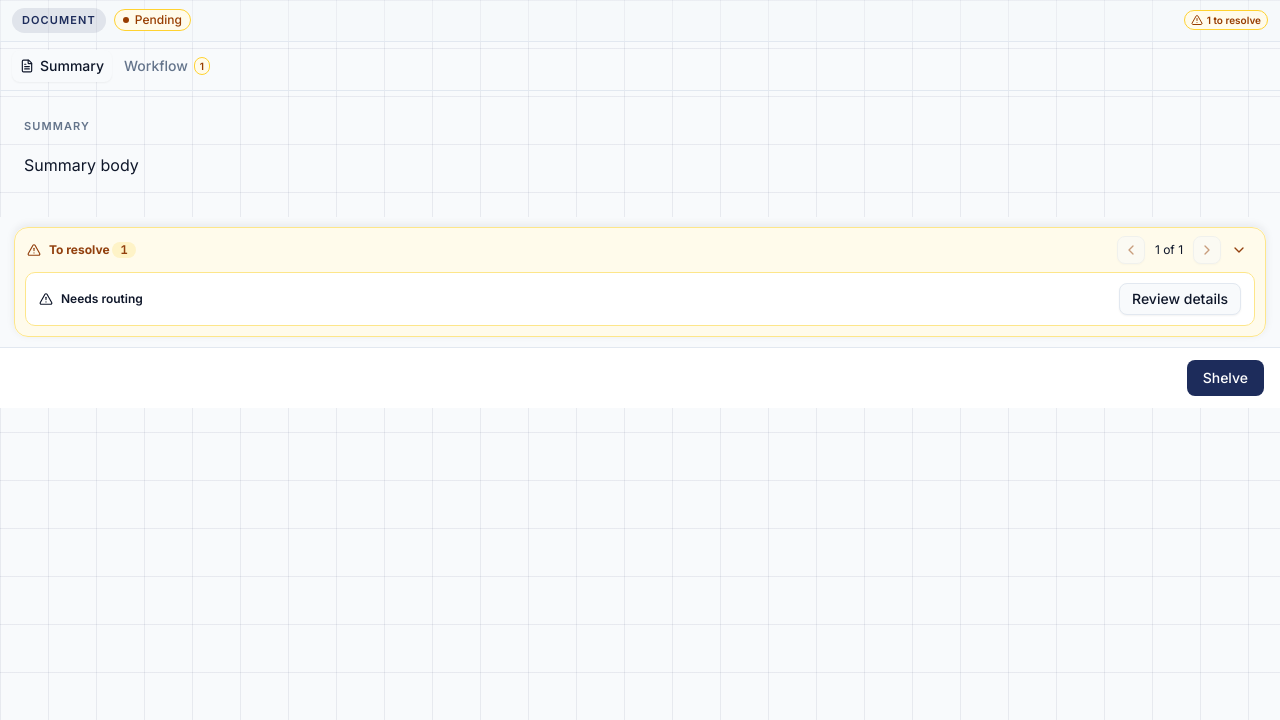
Test: DocumentPanelRenderer › jumps from the resolve chip to the docked tray and preserves collapsed content in the DOM
What coordinates should you click on to do the following:
click the button with aria-label "1 unresolved alert"
I would click on:
 (1226, 20)
Its box is [1184,10,1268,30].
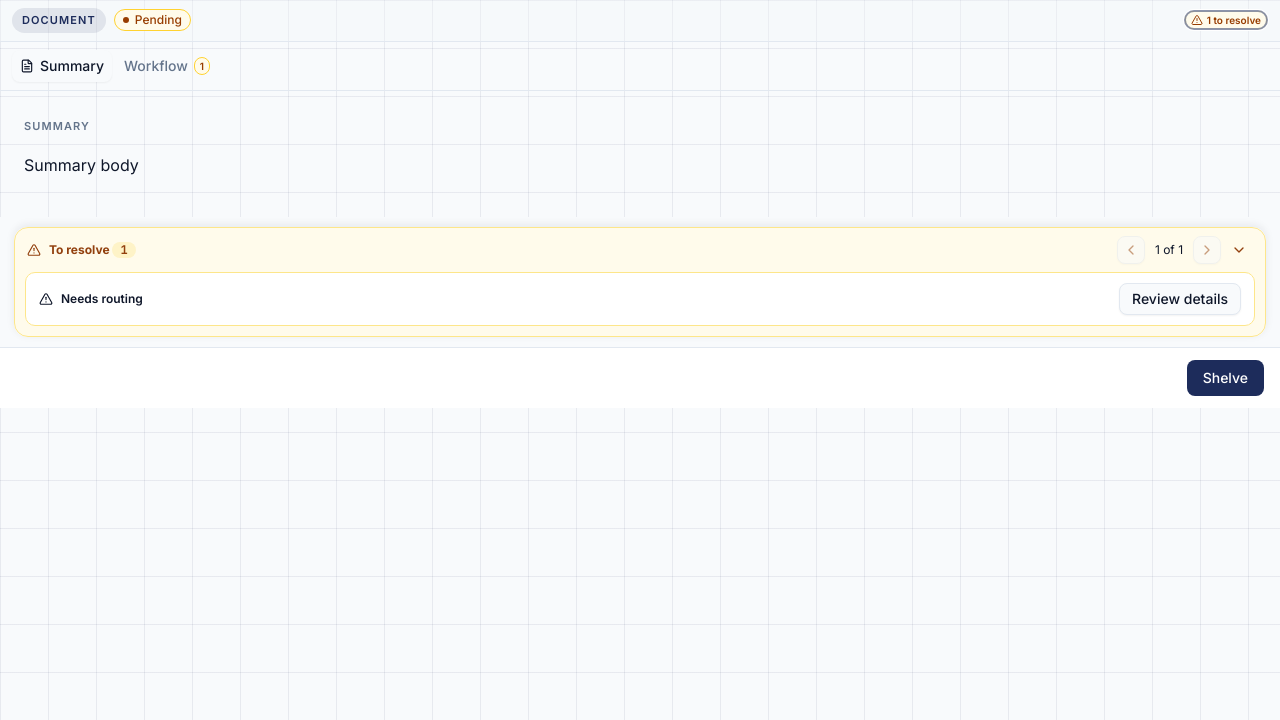
What coordinates should you click on to do the following:
click the button named "Collapse tray"
I would click on:
 (1239, 250)
Its box is [1225,236,1253,264].
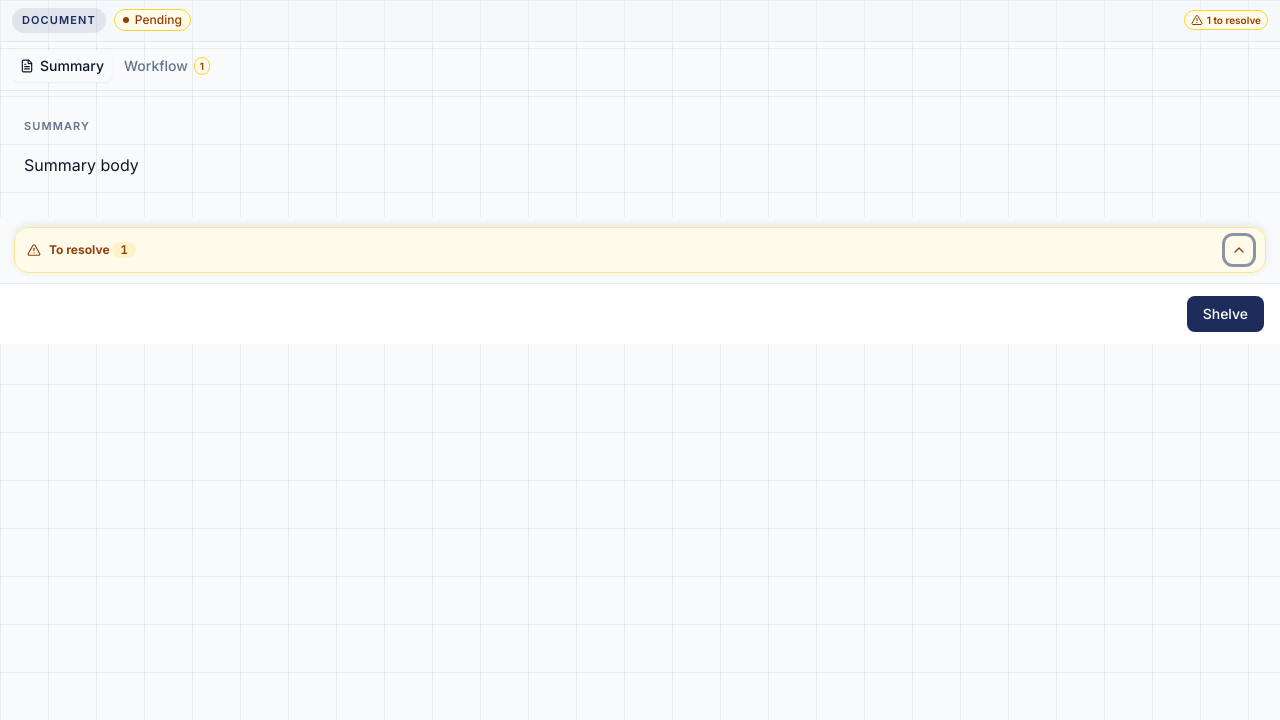
Result: the text "Needs routing" is gone
